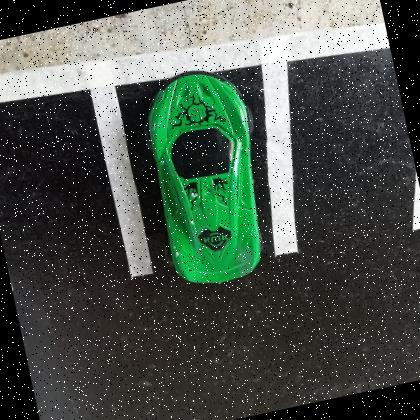Car: (145, 70, 261, 283)
